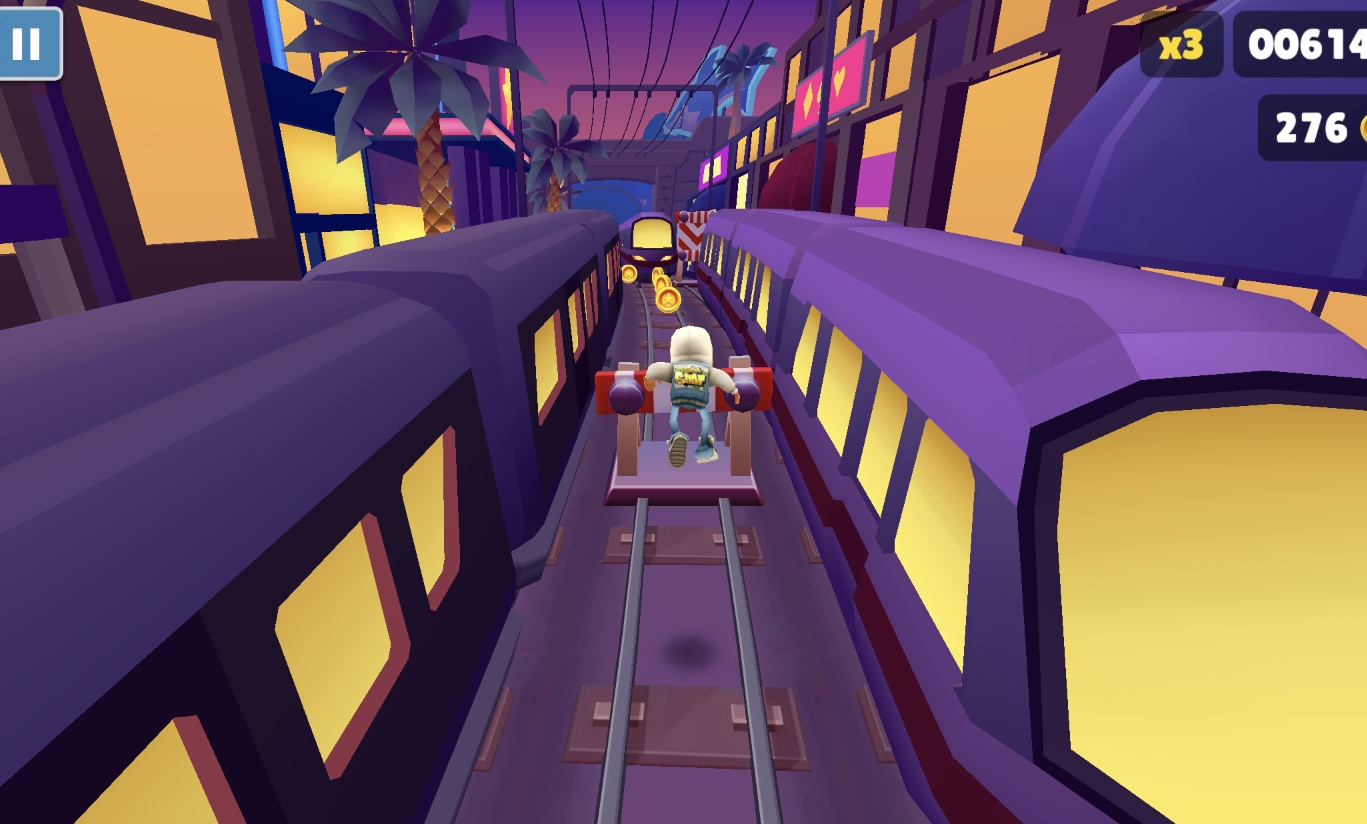ground_barrier: (594, 355, 775, 507)
overhead_barrier: (672, 209, 712, 287)
train: (697, 208, 1367, 824), (0, 207, 622, 824), (617, 211, 679, 284)
